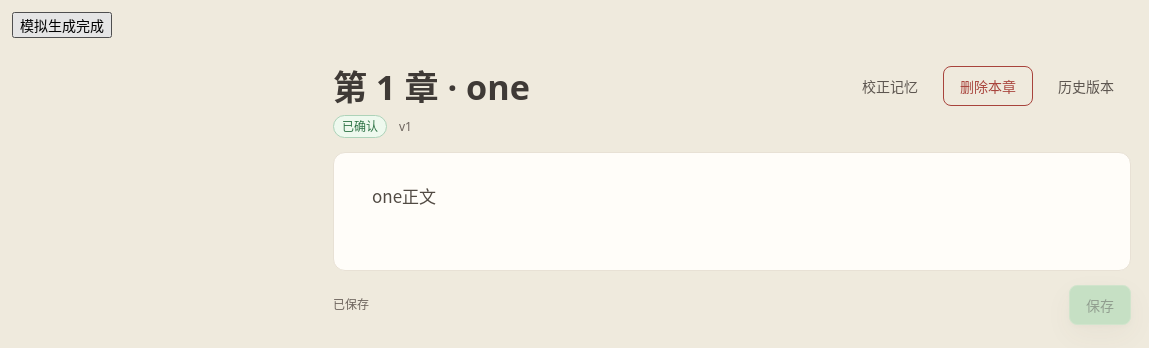
Test case: 章节编辑的草稿和版本保护 › 未保存时不能校正记忆或回退版本；离开页面触发保护
Replace the text in the text box named "章节正文" with "修改了人物设定": [732, 212] box [333,152,1131,271]
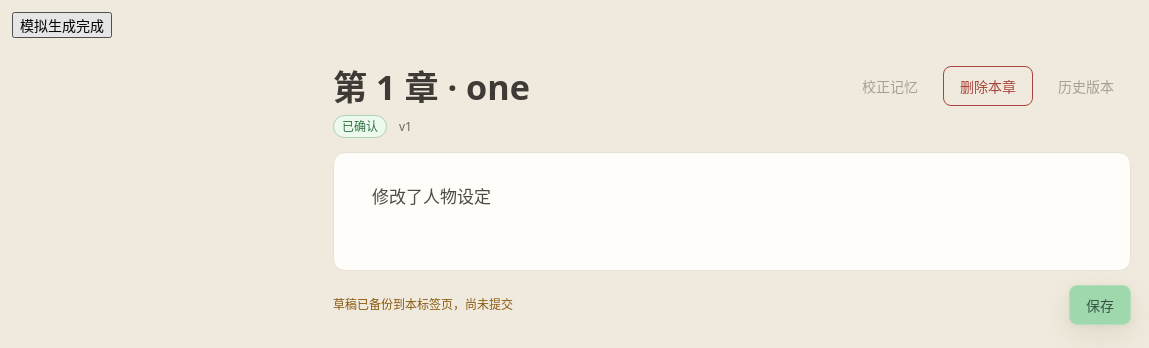
expect the button "校正记忆" is disabled: met, box [845,66,935,106]
expect the button "历史版本" is disabled: met, box [1041,66,1131,106]
